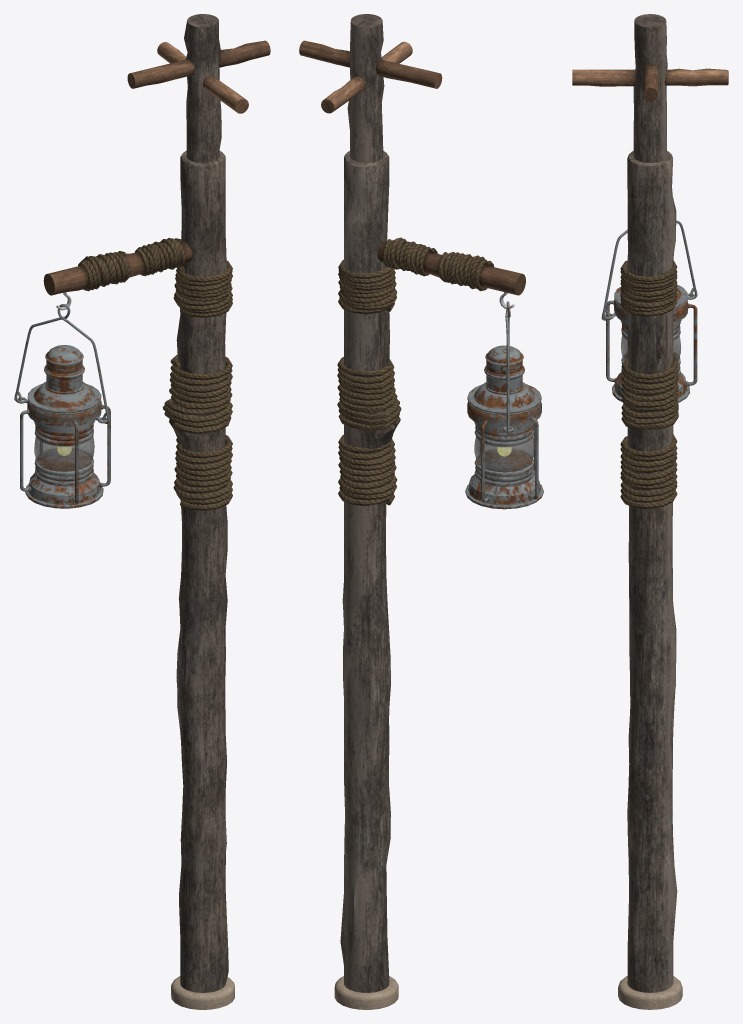
Rendered from xi_dep_street_lamp.gltf.
3 views of the same model, side by side, from view 1: azimuth 30°, elevation 25°; view 2: azimuth 150°, elevation 25°; view 3: azimuth 270°, elevation 25° (orthographic).
Parts seen in each view (by area): view 1: xi_dep_street_lamp; view 2: xi_dep_street_lamp; view 3: xi_dep_street_lamp.
Part boxes in pixels (x1,y1,x2,y2): xi_dep_street_lamp: [14, 14, 270, 1009]; xi_dep_street_lamp: [299, 14, 543, 1009]; xi_dep_street_lamp: [572, 14, 728, 1009].
Size of the model in its own units: 0.7809 by 3.02 by 0.4385.
Materials: 2 (2 with a texture image).
